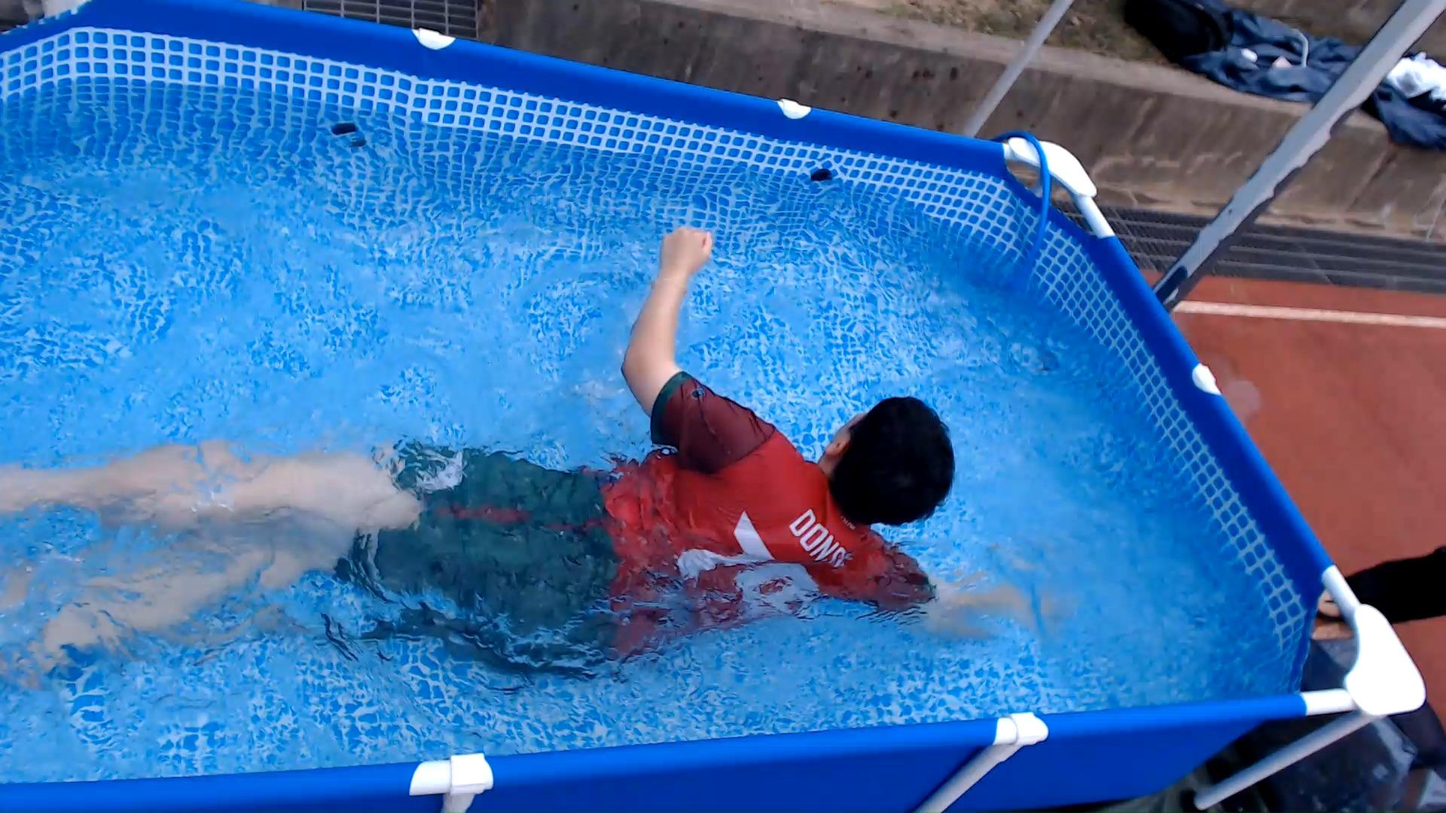Swimming: (0, 214, 1050, 706)
